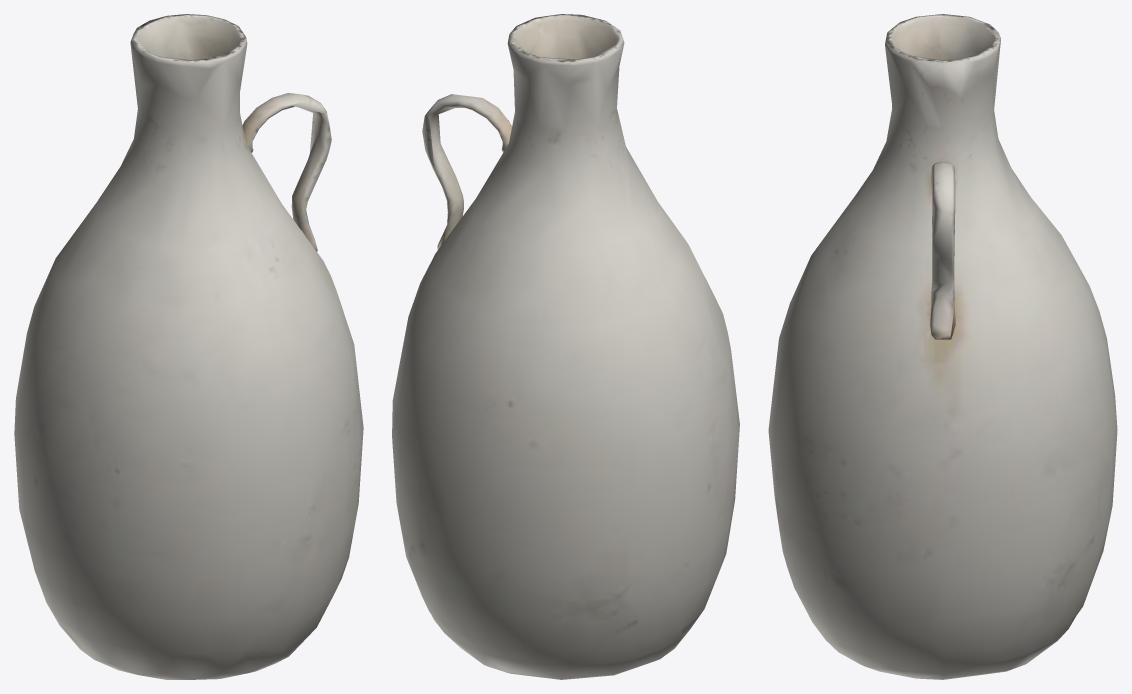
File: ceramic_vase_04.glb
3 renders of one model, left to right at view 1: azimuth 30°, elevation 25°; view 2: azimuth 150°, elevation 25°; view 3: azimuth 270°, elevation 25°, orthographic.
Parts seen in each view (by area): view 1: ceramic_vase_04; view 2: ceramic_vase_04; view 3: ceramic_vase_04.
Part boxes in pixels (x1=…): ceramic_vase_04: x1=14, y1=14, x2=363, y2=679; ceramic_vase_04: x1=392, y1=14, x2=739, y2=679; ceramic_vase_04: x1=768, y1=14, x2=1117, y2=679.
Size of the model in its own units: 0.1799 by 0.3413 by 0.1811.
Materials: 1 (1 with a texture image).
